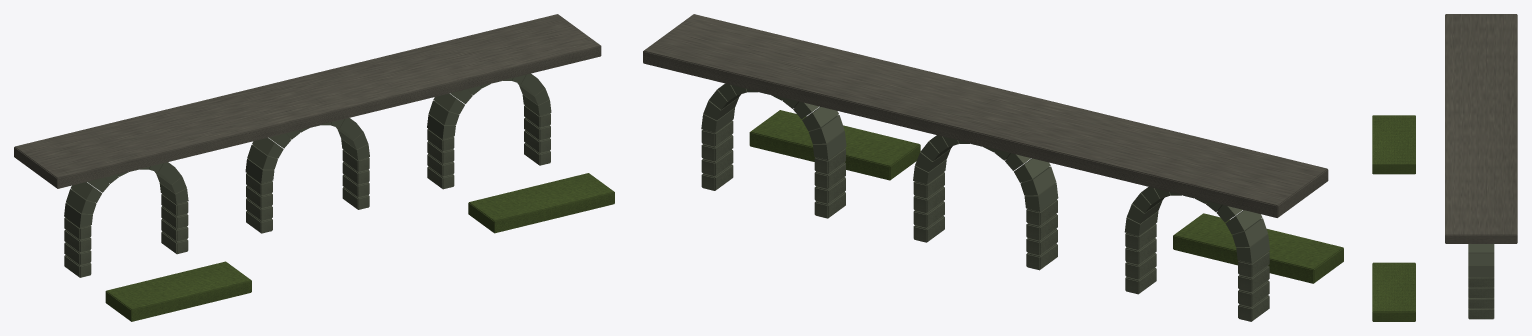
The model's file is monastery-v1.glb.
3 renders of one model, left to right at view 1: azimuth 30°, elevation 25°; view 2: azimuth 150°, elevation 25°; view 3: azimuth 270°, elevation 25°, orthographic. The views are drawn at different scales.
Parts seen in each view (by area): view 1: Cloister roof, Masonry arch 0 pier, Masonry arch 1 pier, Masonry arch 2 pier, Garden bed left, Garden bed right; view 2: Cloister roof, Masonry arch 2 pier, Masonry arch 0 pier, Masonry arch 1 pier, Garden bed left, Garden bed right; view 3: Cloister roof, Garden bed left, Garden bed right, Masonry arch 2 pier.
Part boxes in pixels (x1,y1,x2,y2): Cloister roof: [14, 14, 601, 188]; Masonry arch 0 pier: [64, 162, 188, 277]; Masonry arch 1 pier: [245, 118, 369, 233]; Masonry arch 2 pier: [427, 73, 551, 189]; Garden bed left: [105, 261, 251, 321]; Garden bed right: [468, 173, 614, 233]; Cloister roof: [643, 14, 1328, 217]; Masonry arch 2 pier: [701, 83, 846, 218]; Masonry arch 0 pier: [1124, 187, 1269, 321]; Masonry arch 1 pier: [913, 135, 1058, 270]; Garden bed left: [1173, 213, 1343, 283]; Garden bed right: [749, 110, 920, 180]; Cloister roof: [1445, 14, 1517, 243]; Garden bed left: [1372, 115, 1415, 174]; Garden bed right: [1372, 262, 1415, 321]; Masonry arch 2 pier: [1468, 244, 1494, 319].
Size of what is drawn, in the model's own units: 18 by 3.77 by 5.
Materials: 4 (4 with a texture image).
